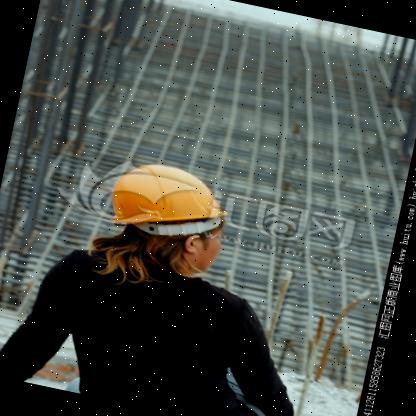capacete: (92, 150, 243, 282)
sem_colete_refletivo: (2, 232, 326, 415)
